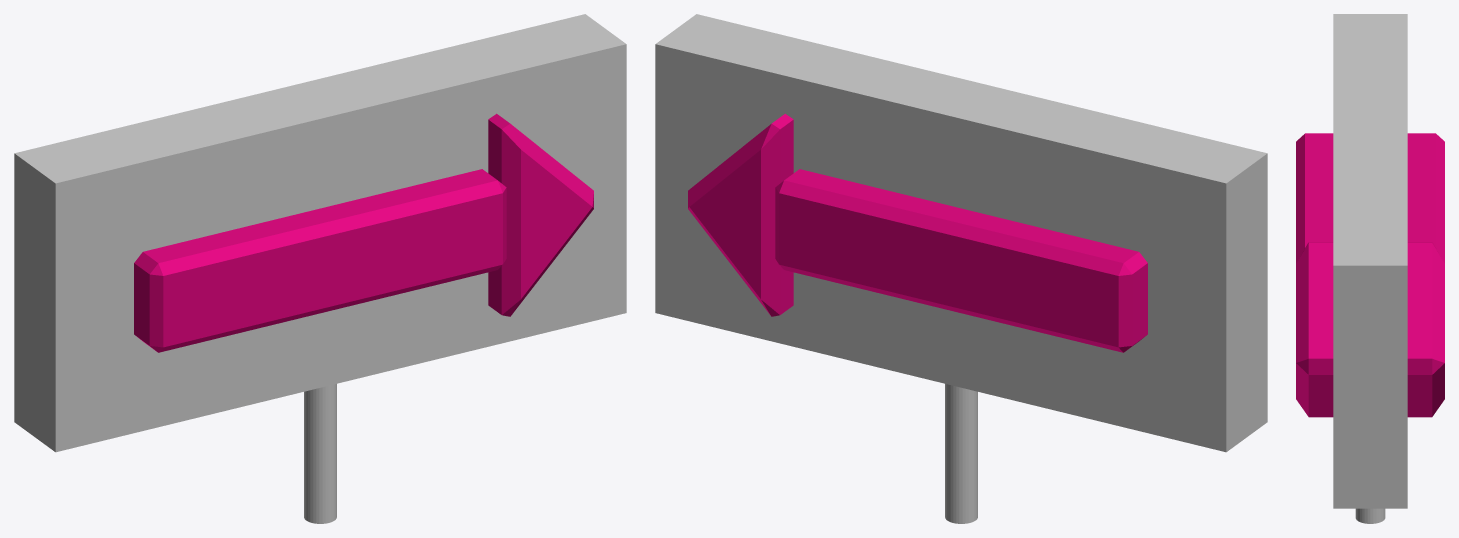
The picture shows the model from 3 angles, left to right: view 1: azimuth 30°, elevation 25°; view 2: azimuth 150°, elevation 25°; view 3: azimuth 270°, elevation 25°; orthographic projection. The views are drawn at different scales.
Visible parts, largest first — view 1: 立方体.002, 立方体, 円柱; view 2: 立方体.002, 立方体, 円柱; view 3: 立方体.002, 立方体, 円柱.
Boxes of the visible parts, x1,y1,x2,y2 form: 立方体.002: (14, 14, 626, 452); 立方体: (134, 113, 593, 352); 円柱: (304, 384, 336, 523); 立方体.002: (655, 14, 1267, 452); 立方体: (688, 113, 1147, 352); 円柱: (945, 384, 977, 523); 立方体.002: (1333, 14, 1407, 508); 立方体: (1296, 133, 1444, 417); 円柱: (1355, 508, 1385, 523).
Size of the model in its own units: 400 by 280 by 100.
